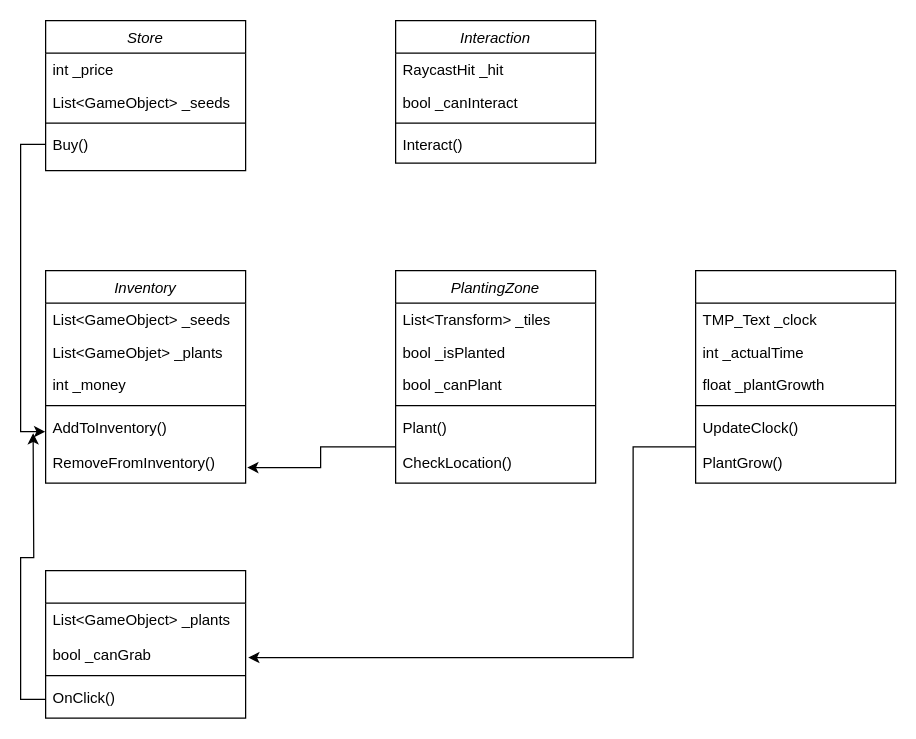
The diagram is 916 pixels wide and 739 high, and some of its shapes have lost their labels. Here are the shapes that lost their labels. From the top down, the box of each, then its label:
(694, 269, 896, 483): TimeManager
(44, 569, 246, 718): GrabPlant
